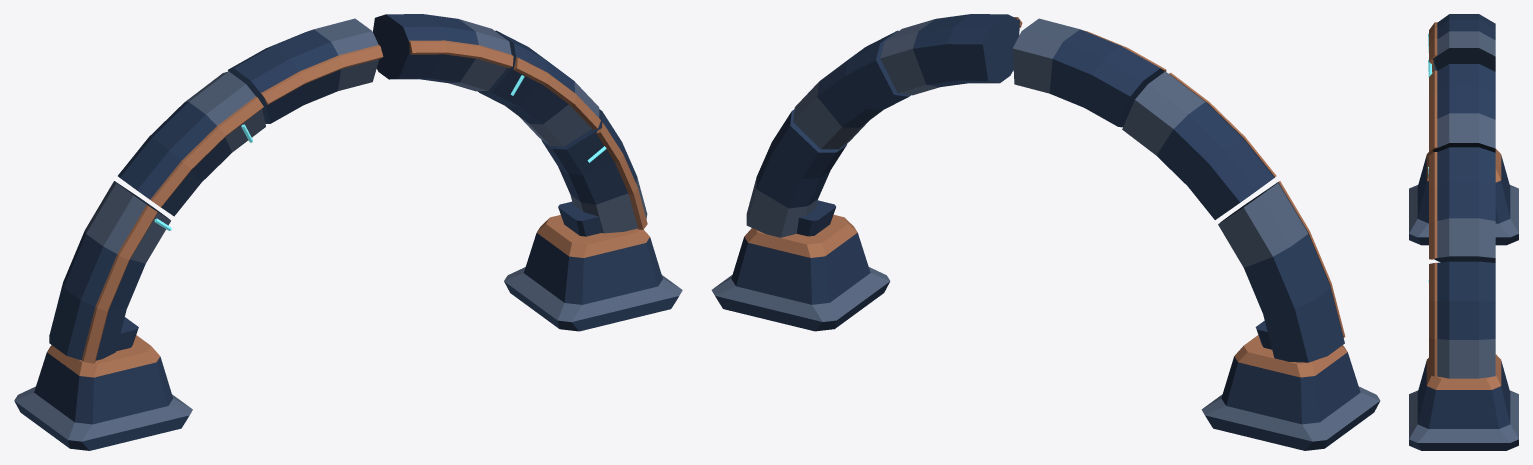
The model's file is observatory-arc.glb.
3 renders of one model, left to right at view 1: azimuth 30°, elevation 25°; view 2: azimuth 150°, elevation 25°; view 3: azimuth 270°, elevation 25°, orthographic. The views are drawn at different scales.
Parts seen in each view (by area): view 1: observatory-arc; view 2: observatory-arc; view 3: observatory-arc.
Part boxes in pixels (left/top/right/bottom): observatory-arc: left=14, top=14, right=682, bottom=450; observatory-arc: left=711, top=14, right=1380, bottom=450; observatory-arc: left=1409, top=14, right=1518, bottom=450.
Bounding box in the file's own units: 11.99 × 6.11 × 2.16.
